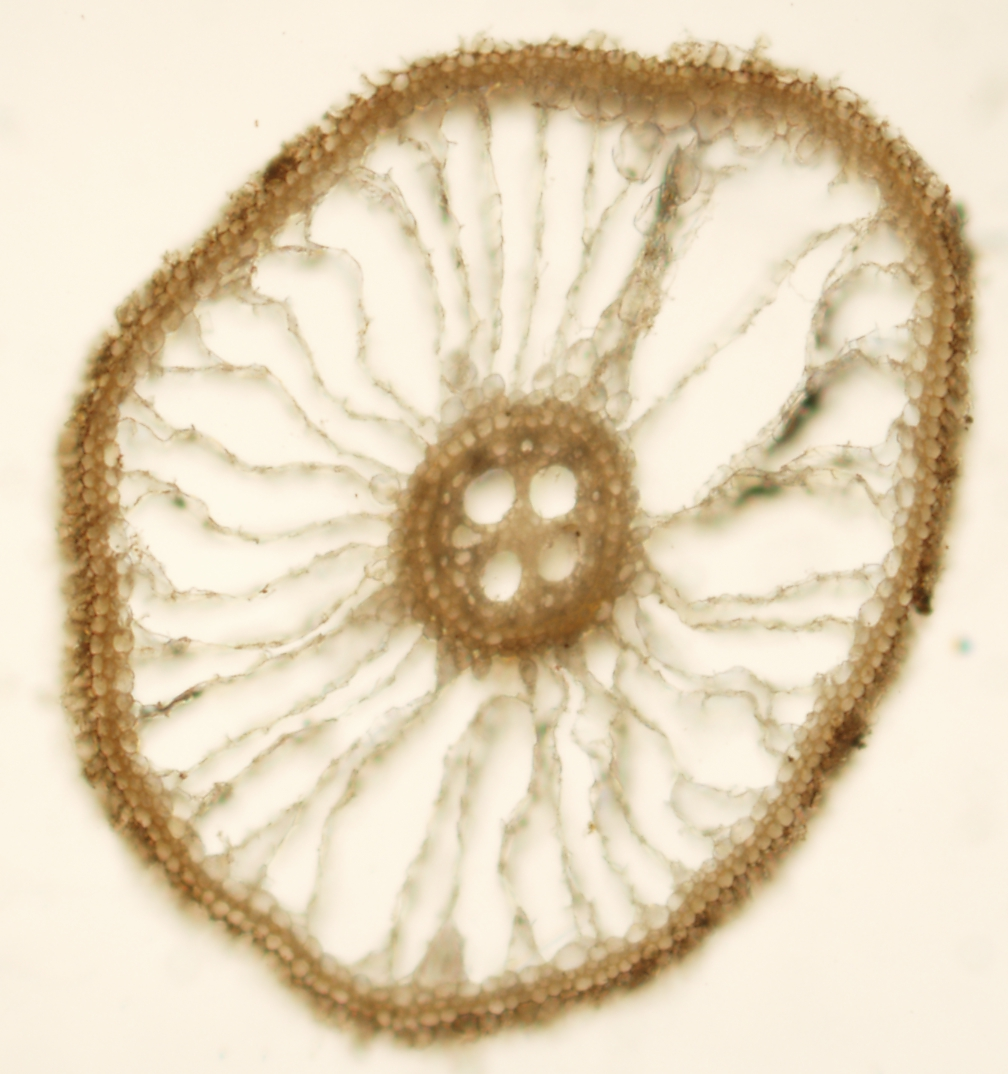lm: (463, 467, 516, 524), (528, 464, 578, 518), (479, 550, 522, 602), (536, 532, 578, 582)
